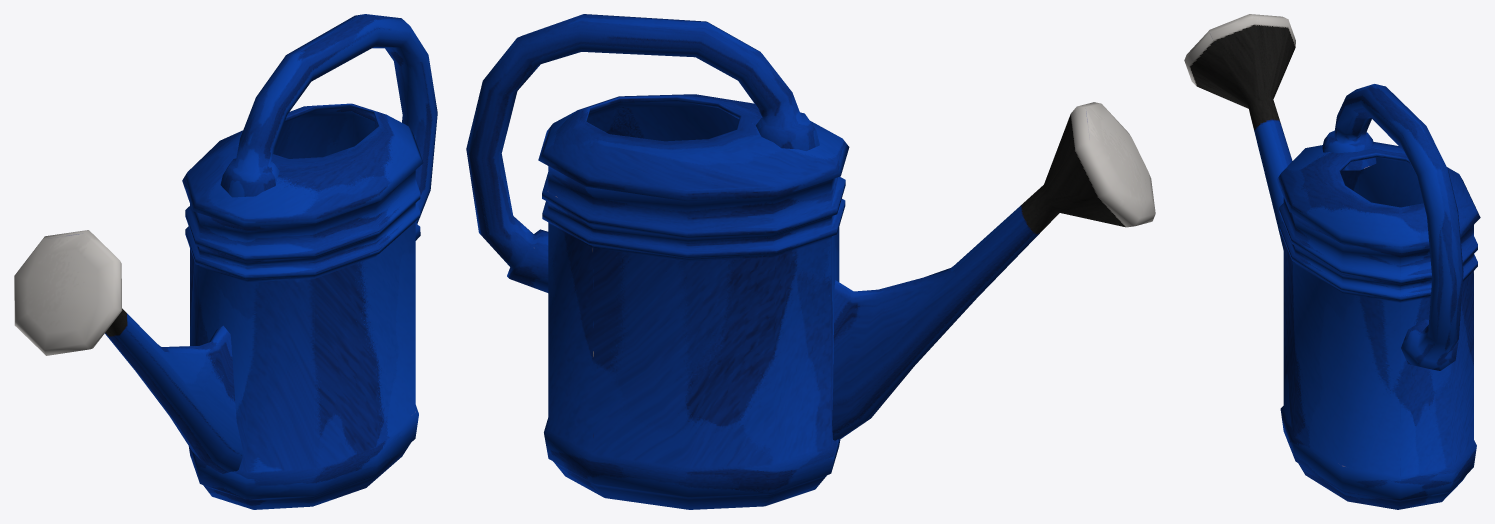
The model's file is watercan.fbx.
3 renders of one model, left to right at view 1: azimuth 30°, elevation 25°; view 2: azimuth 150°, elevation 25°; view 3: azimuth 270°, elevation 25°, orthographic. The views are drawn at different scales.
Parts seen in each view (by area): view 1: WateringCan_BAKED; view 2: WateringCan_BAKED; view 3: WateringCan_BAKED.
Part boxes in pixels (x1,y1,x2,y2): WateringCan_BAKED: [14, 14, 437, 509]; WateringCan_BAKED: [466, 14, 1155, 509]; WateringCan_BAKED: [1184, 14, 1480, 509].
Bounding box in the file's own units: 54.38 × 41.64 × 29.59.
